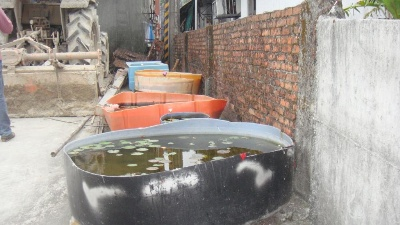box: (60, 118, 301, 225), (102, 89, 227, 127)
